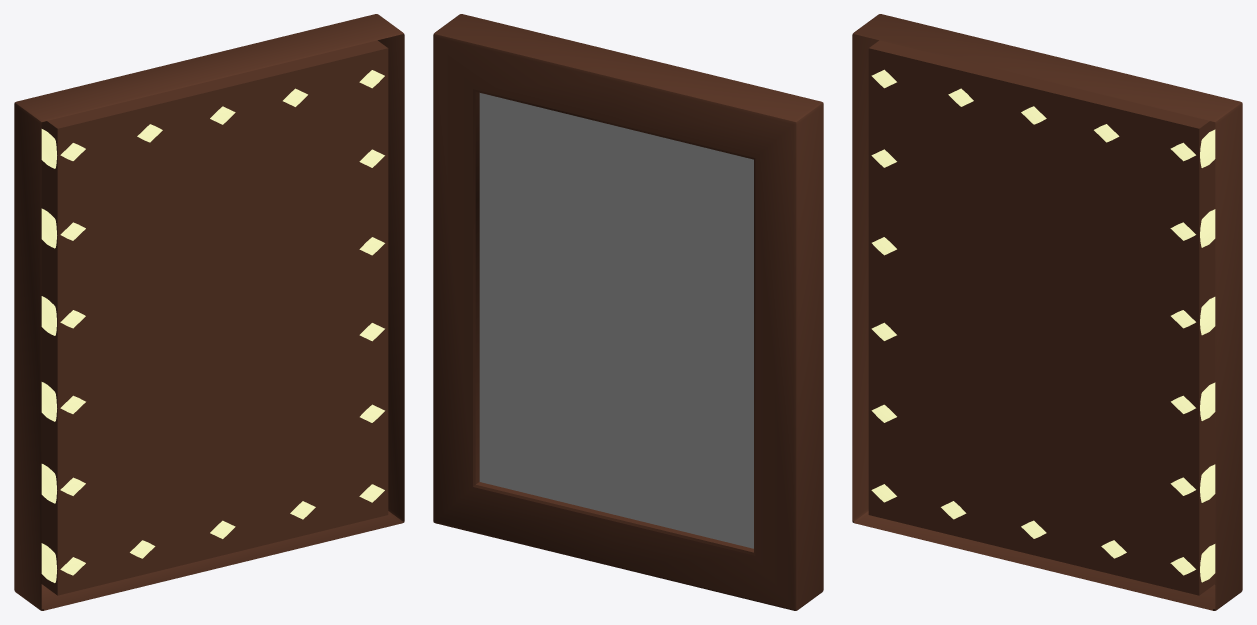
File: PosterCase.fbx
3 renders of one model, left to right at view 1: azimuth 30°, elevation 25°; view 2: azimuth 150°, elevation 25°; view 3: azimuth 330°, elevation 25°, orthographic.
Visible parts, largest first — view 1: Quest_Poster_Case; view 2: Quest_Poster_Case; view 3: Quest_Poster_Case.
Boxes of the visible parts, bbox=[...] form: Quest_Poster_Case: bbox=[14, 14, 404, 610]; Quest_Poster_Case: bbox=[433, 14, 823, 610]; Quest_Poster_Case: bbox=[852, 14, 1242, 610].
Bounding box in the file's own units: 133 × 171 × 18.
